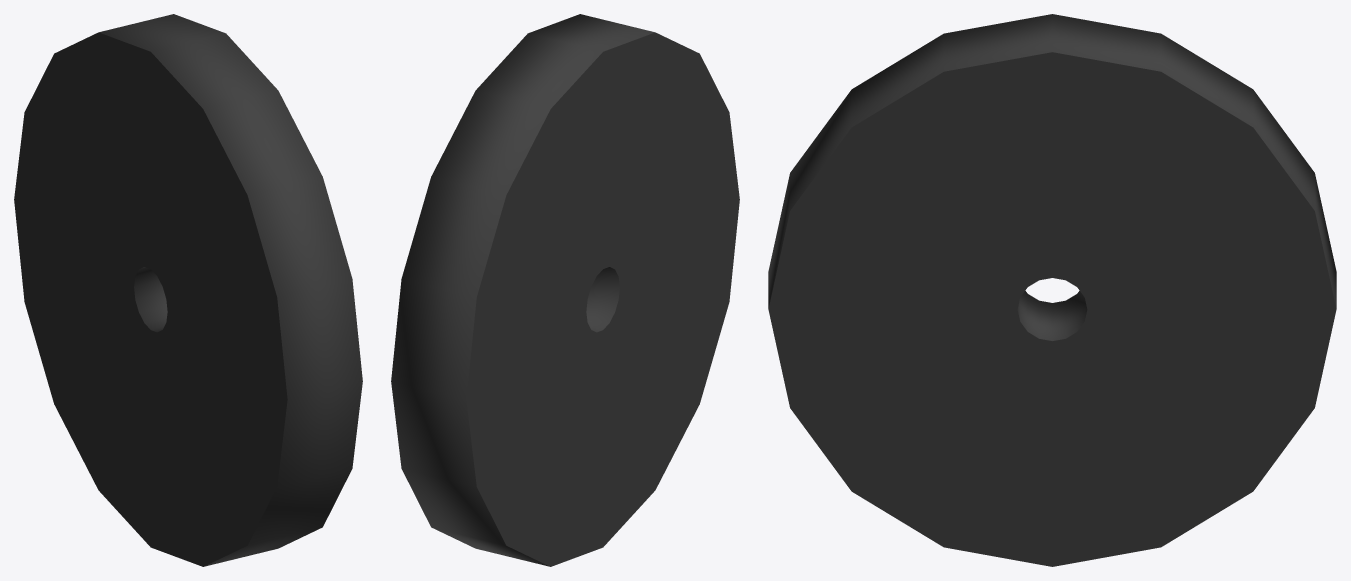
Rendered from weight_4.glb.
3 views of the same model, side by side, from view 1: azimuth 30°, elevation 25°; view 2: azimuth 150°, elevation 25°; view 3: azimuth 270°, elevation 25° (orthographic). The views are drawn at different scales.
Visible parts, largest first — view 1: Weight_A; view 2: Weight_A; view 3: Weight_A.
Part boxes in pixels (bbox=[...]): Weight_A: bbox=[14, 14, 362, 566]; Weight_A: bbox=[391, 14, 739, 566]; Weight_A: bbox=[768, 14, 1336, 566].
Bounding box in the file's own units: 0.0372 × 0.2342 × 0.2342.
Materials: 1 (1 with a texture image).
